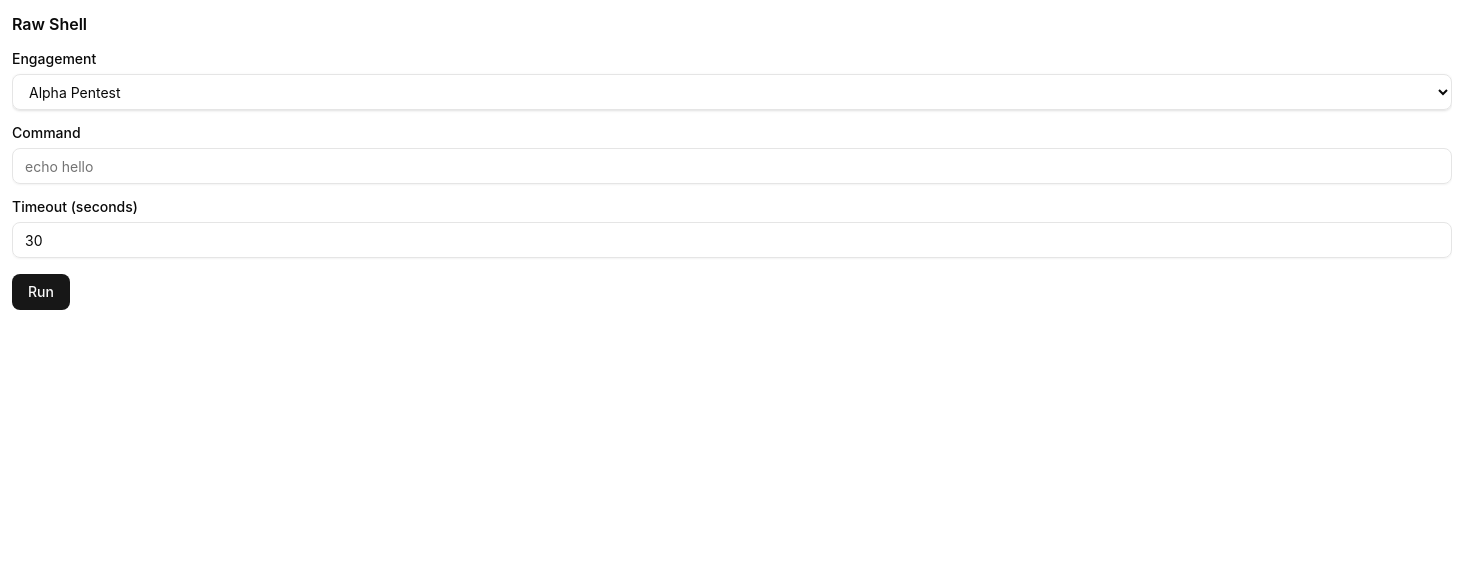
Scenario: RawShellForm › truncation notice › shows truncation notice when sentinel is in stdout
The image size is (1464, 565).
Type "cat /dev/urandom" into the field labelled "Command" at {"x": 732, "y": 166}, box [12,148,1452,184]
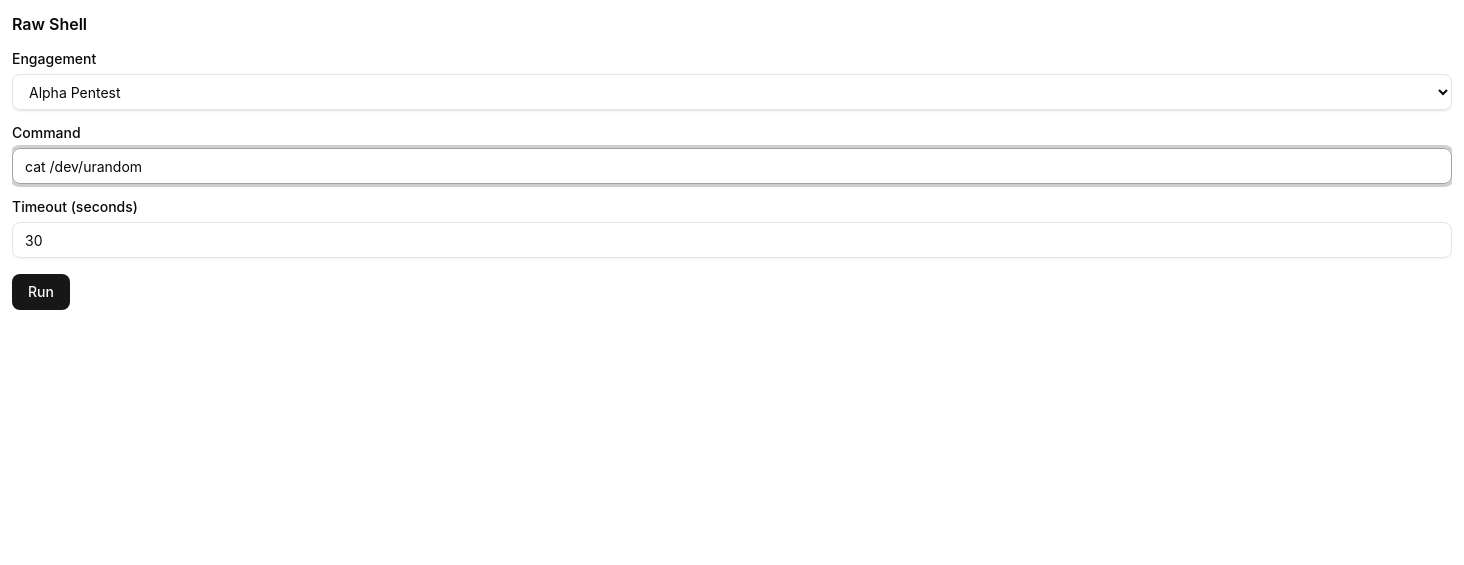
Click the button "Run" at {"x": 41, "y": 292}, box [12,274,70,310]
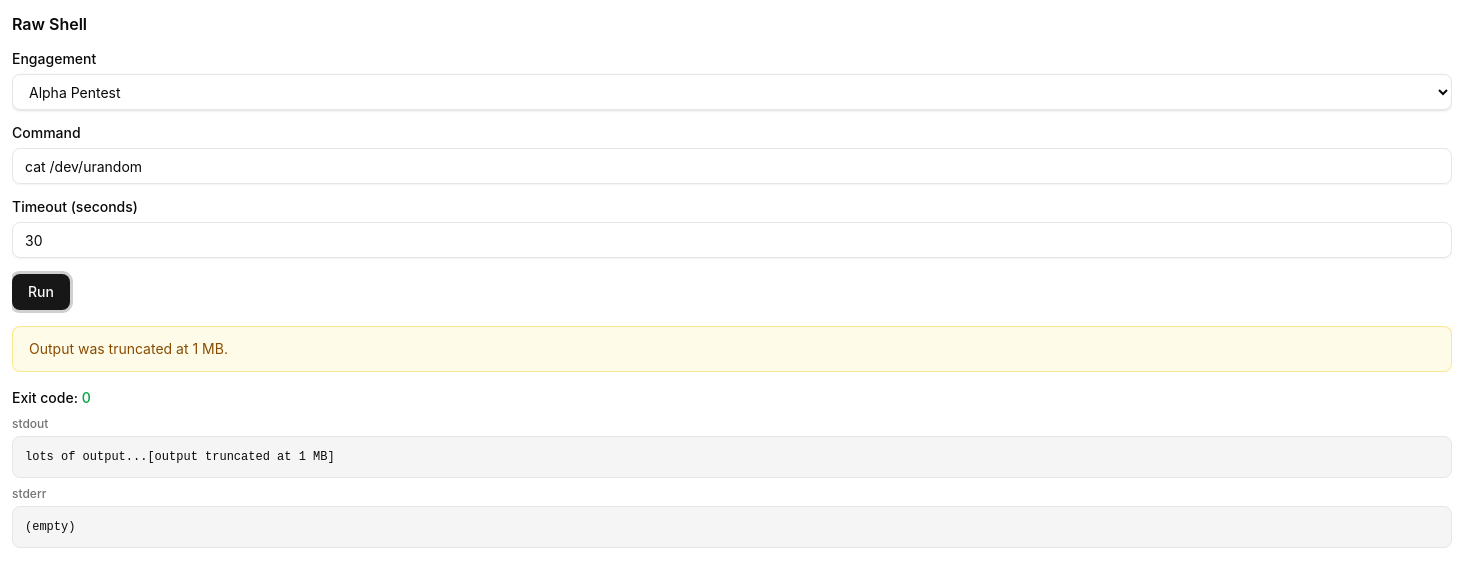
Result: the message reads "Output was truncated at 1 MB." at [29,340,228,357]
